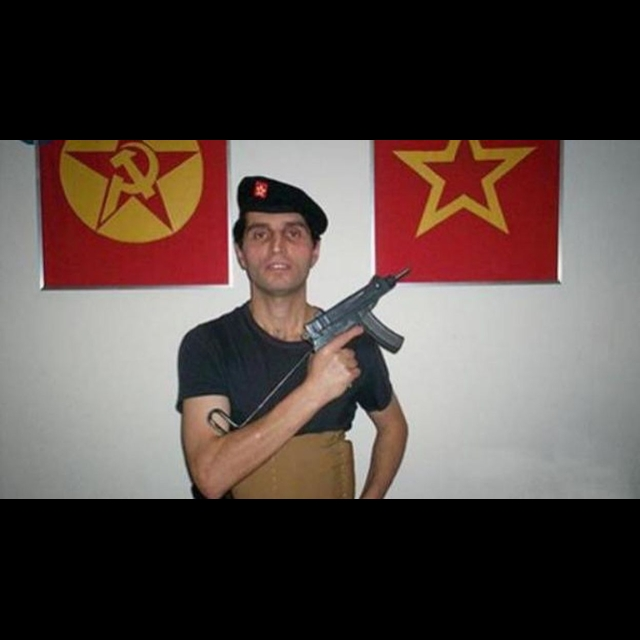DHKPC: (56, 141, 211, 252), (393, 141, 540, 246)
